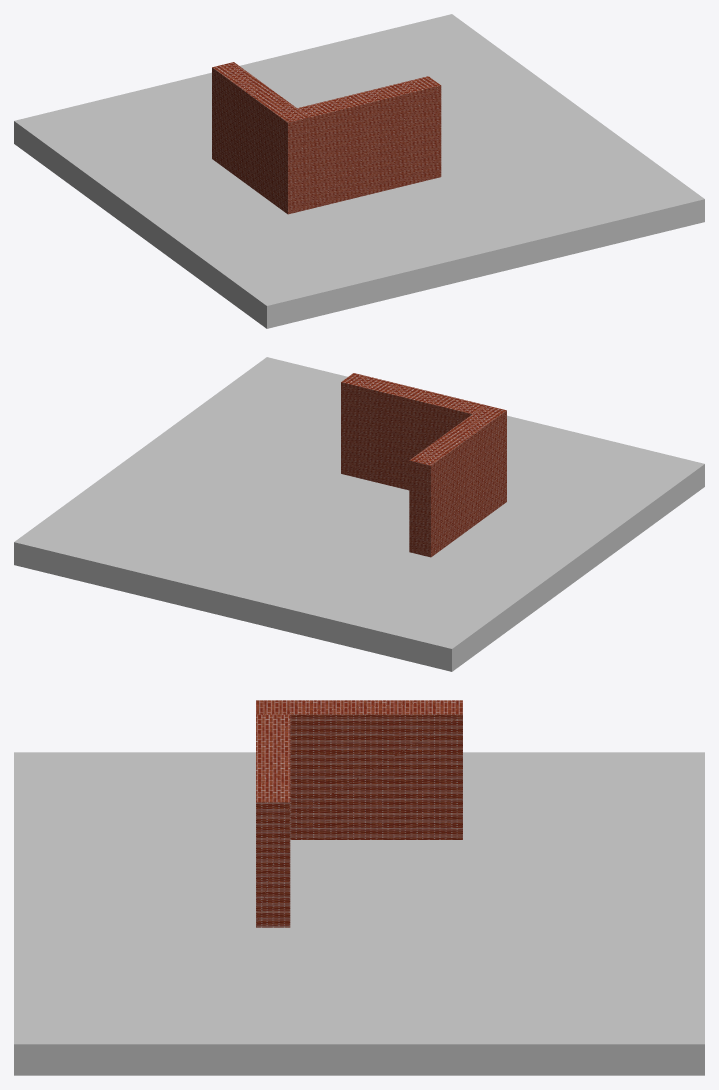
File: nk_flatgrass.obj
3 renders of one model, top to bottom at view 1: azimuth 30°, elevation 25°; view 2: azimuth 150°, elevation 25°; view 3: azimuth 270°, elevation 25°, orthographic. The views are drawn at different scales.
Visible parts, largest first — view 1: Cube, Cube.002, Cube.001; view 2: Cube, Cube.001, Cube.002; view 3: Cube, Cube.001, Cube.002.
Boxes of the visible parts, box(x1,y1,x2,y2) form: Cube: box(14, 14, 704, 328); Cube.002: box(297, 76, 441, 208); Cube.001: box(212, 62, 309, 214); Cube: box(14, 357, 704, 671); Cube.001: box(409, 405, 506, 557); Cube.002: box(341, 373, 484, 490); Cube: box(14, 752, 704, 1075); Cube.001: box(256, 700, 462, 839); Cube.002: box(256, 714, 290, 927).
Size of the model in its own units: 20 by 5 by 20.
